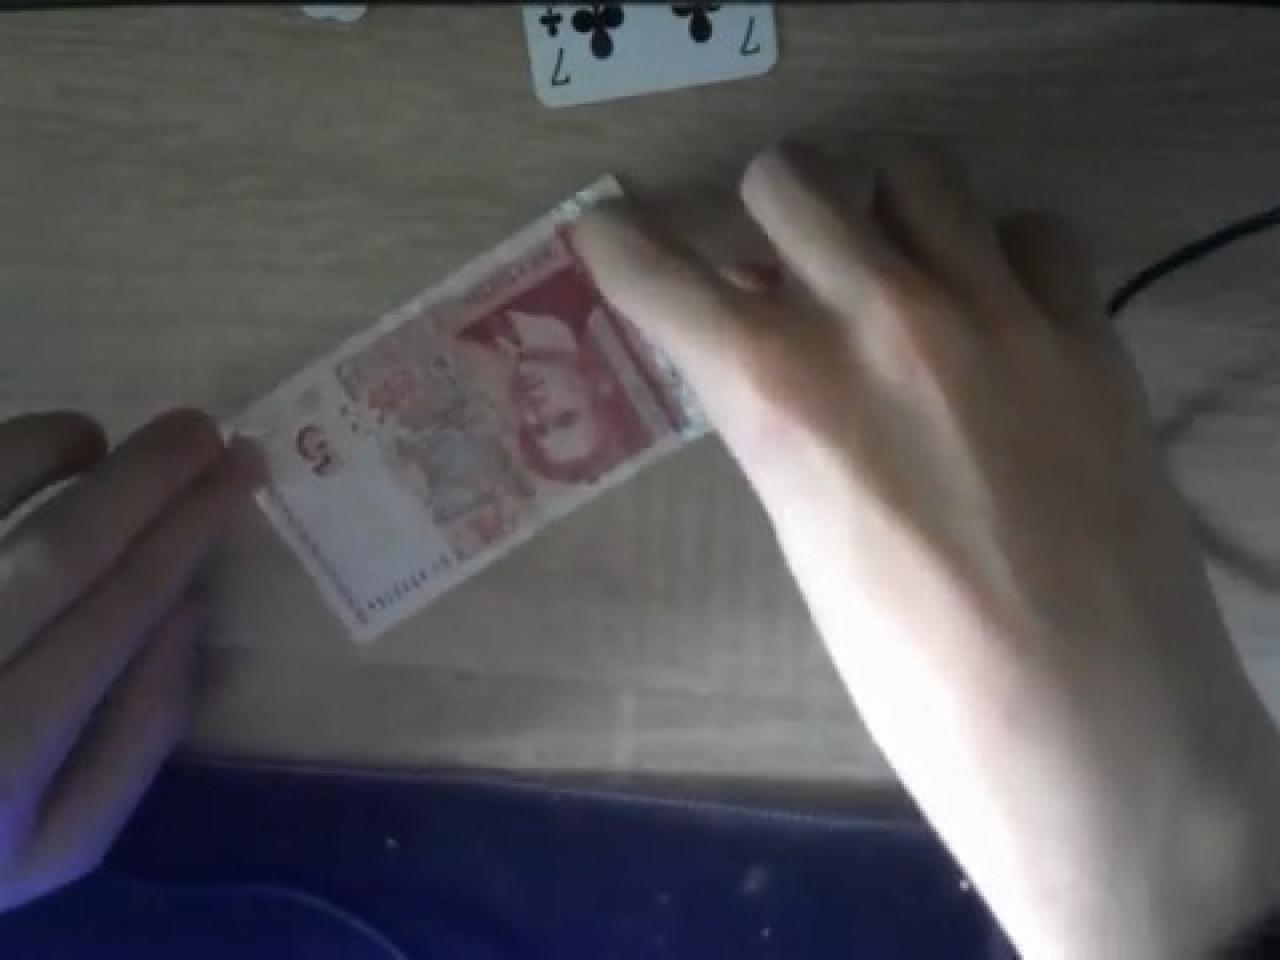5leva: (221, 176, 715, 640)
